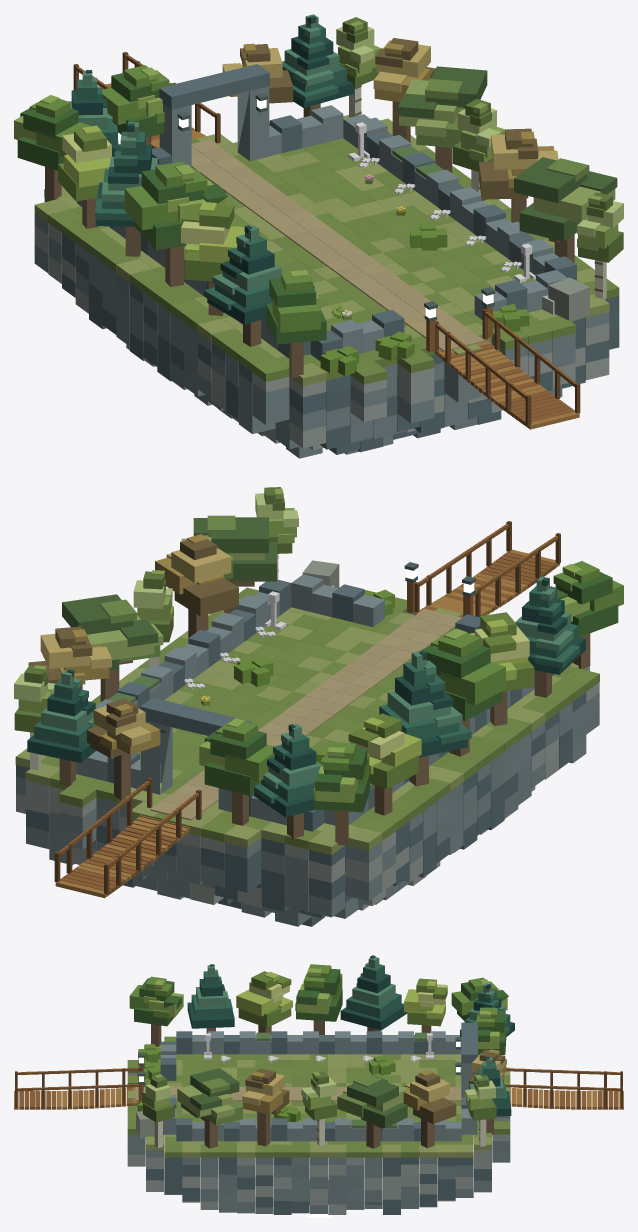
Rendered from room_empty_purified.glb.
3 renders of one model, top to bottom at view 1: azimuth 30°, elevation 25°; view 2: azimuth 150°, elevation 25°; view 3: azimuth 270°, elevation 25°, orthographic. The views are drawn at different scales.
Visible parts, largest first — view 1: room_empty_blocks, tree0_(0, 0).002, tree3_(0, 0).001, tree3_(0, 0).002, tree2_(0, 0).001, tree2_(0, 0).004, tree0_(0, 0).001, tree2_(0, 0).002, tree0_(0, 0).003, tree4_(0, 0).001, tree5_(0, 0).001, tree0_(0, 0).004 (+12 smaller); view 2: room_empty_blocks, tree2_(0, 0).002, tree3_(0, 0).002, tree5_(0, 0).001, tree0_(0, 0).002, tree0_(0, 0).004, tree2_(0, 0).001, tree2_(0, 0).004, tree2_(0, 0).003, tree3_(0, 0).001, tree4_(0, 0).002, tree0_(0, 0).001 (+9 smaller); view 3: room_empty_blocks, tree3_(0, 0).001, tree3_(0, 0).002, tree2_(0, 0).002, tree4_(0, 0).001, tree0_(0, 0).002, tree5_(0, 0).002, tree0_(0, 0).001, tree5_(0, 0).001, tree2_(0, 0).001, tree4_(0, 0).002, tree1_(0, 0).002 (+9 smaller).
Part boxes in pixels (x1,y1,x2,y2): room_empty_blocks: (34,52,619,458); tree0_(0, 0).002: (124,161,228,286); tree3_(0, 0).001: (514,157,617,262); tree3_(0, 0).002: (398,66,487,172); tree2_(0, 0).001: (204,225,281,346); tree2_(0, 0).004: (282,14,354,116); tree0_(0, 0).001: (266,270,326,377); tree2_(0, 0).002: (95,122,157,256); tree0_(0, 0).003: (14,95,91,200); tree4_(0, 0).001: (181,202,244,315); tree5_(0, 0).001: (479,128,558,222); tree0_(0, 0).004: (102,65,175,144); room_empty_blocks: (15,521,599,926); tree2_(0, 0).002: (379,650,471,786); tree3_(0, 0).002: (62,594,163,701); tree5_(0, 0).001: (155,534,238,637); tree0_(0, 0).002: (420,628,505,756); tree0_(0, 0).004: (199,718,274,825); tree2_(0, 0).001: (515,576,585,697); tree2_(0, 0).004: (27,669,97,786); tree2_(0, 0).003: (254,724,322,840); tree3_(0, 0).001: (181,515,276,613); tree4_(0, 0).002: (348,713,421,815); tree0_(0, 0).001: (551,561,623,668); room_empty_blocks: (14,1022,623,1217); tree3_(0, 0).001: (177,1068,242,1148); tree3_(0, 0).002: (337,1074,407,1148); tree2_(0, 0).002: (340,955,407,1031); tree4_(0, 0).001: (236,971,292,1034); tree0_(0, 0).002: (295,964,342,1034); tree5_(0, 0).002: (403,1070,456,1148); tree0_(0, 0).001: (129,976,183,1046); tree5_(0, 0).001: (242,1068,289,1146); tree2_(0, 0).001: (187,964,234,1033); tree4_(0, 0).002: (404,978,447,1033); tree1_(0, 0).002: (301,1071,336,1145).
Bounding box in the file's own units: 19.57 × 14.28 × 38.5.
